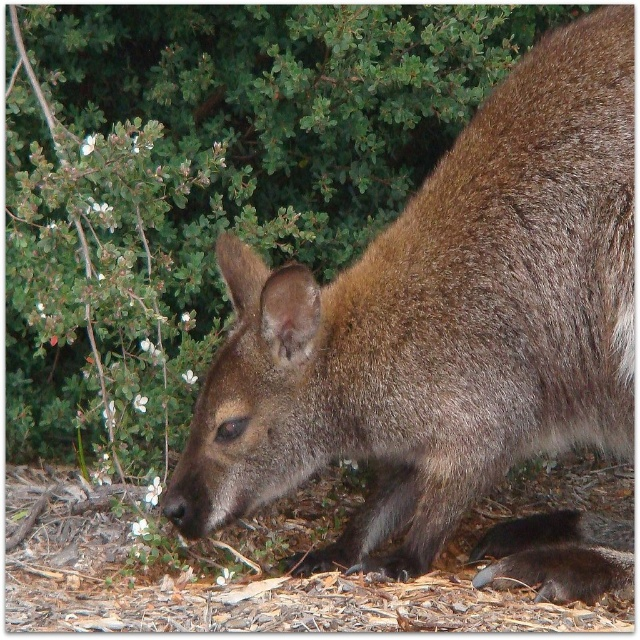Kangaroo: (161, 4, 634, 604)
